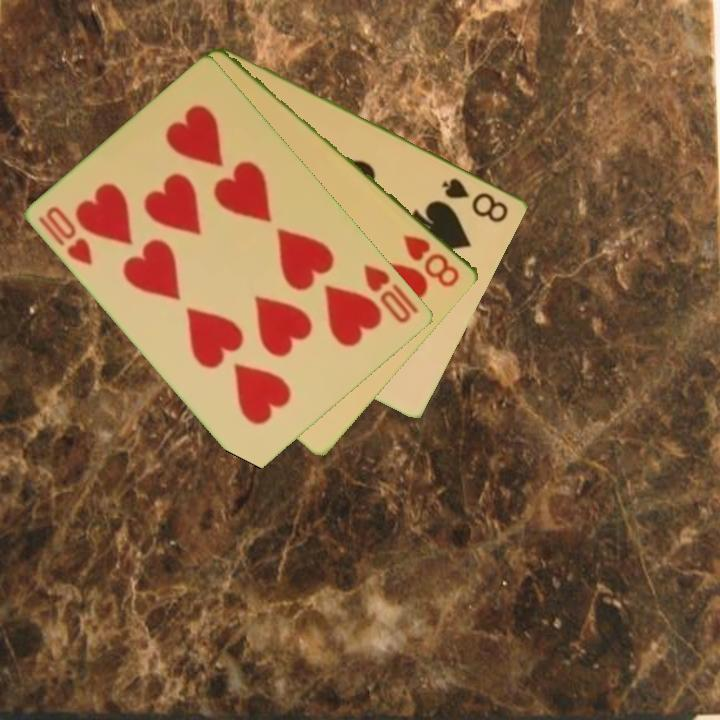10h: (361, 260, 422, 327), (35, 203, 96, 269)
8h: (400, 231, 463, 290)
8s: (438, 174, 512, 226)
